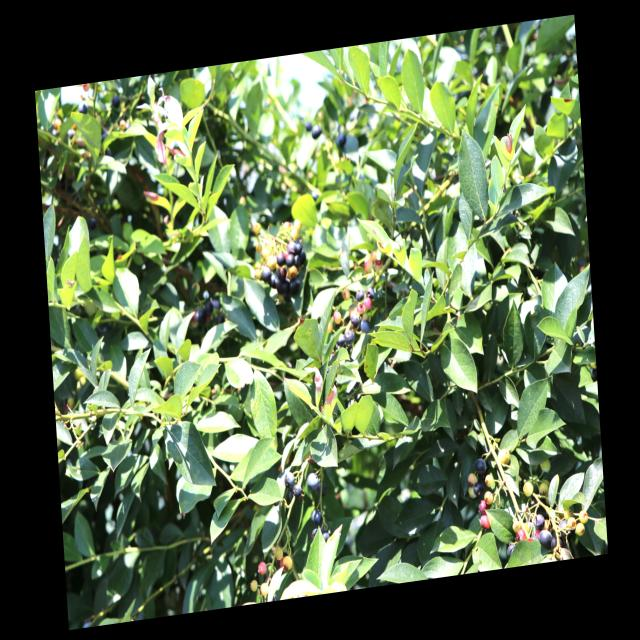blueberry: (538, 528, 554, 550), (559, 517, 572, 541), (305, 472, 319, 493), (309, 507, 323, 528), (533, 511, 548, 530), (283, 470, 295, 491), (473, 478, 485, 499), (258, 265, 270, 284), (474, 457, 486, 476), (317, 482, 329, 500), (344, 328, 355, 345), (355, 287, 366, 304), (350, 313, 360, 331), (292, 484, 304, 499), (361, 318, 372, 334), (276, 252, 286, 267), (270, 272, 279, 288), (285, 253, 295, 267), (336, 333, 346, 347), (288, 242, 297, 254), (365, 288, 374, 300), (295, 254, 302, 267)
blueberry-halfripe: (480, 513, 492, 531), (478, 498, 489, 516), (257, 560, 268, 576), (516, 528, 527, 542), (363, 297, 373, 310), (342, 288, 352, 300), (364, 259, 373, 272), (334, 311, 342, 325), (356, 302, 364, 315), (325, 322, 333, 334), (375, 259, 383, 271)
blueberry-unripe: (497, 447, 511, 466), (281, 554, 294, 572), (522, 480, 533, 498), (467, 484, 478, 501), (273, 546, 284, 562), (539, 479, 549, 496), (468, 471, 479, 486), (566, 516, 577, 531), (484, 490, 494, 506), (259, 582, 270, 596), (578, 509, 589, 523), (540, 458, 550, 473), (485, 472, 494, 488), (554, 505, 564, 518), (576, 522, 585, 536), (563, 508, 573, 520), (250, 579, 258, 592), (512, 520, 521, 531), (523, 522, 530, 534)
